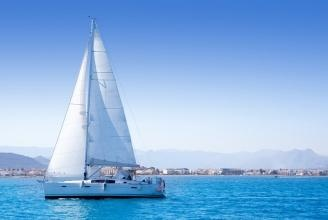fanchuan: (40, 15, 170, 199)
